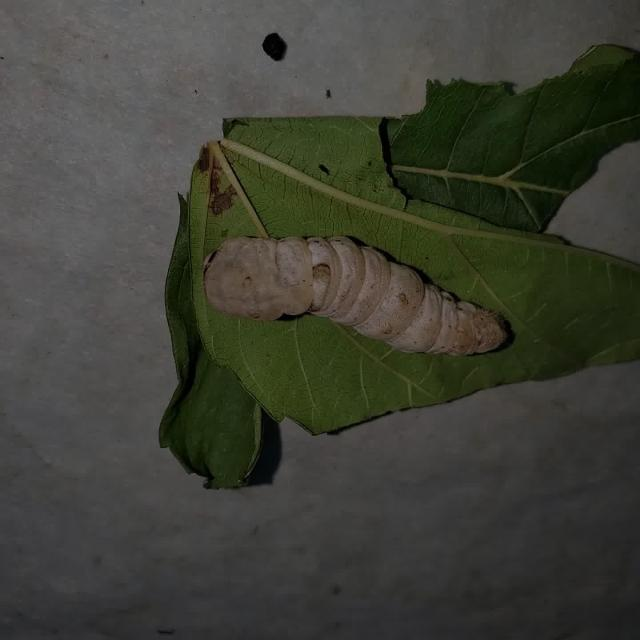Grasserie: (196, 201, 514, 381)
